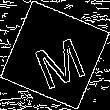M_N: (24, 23, 86, 87)
